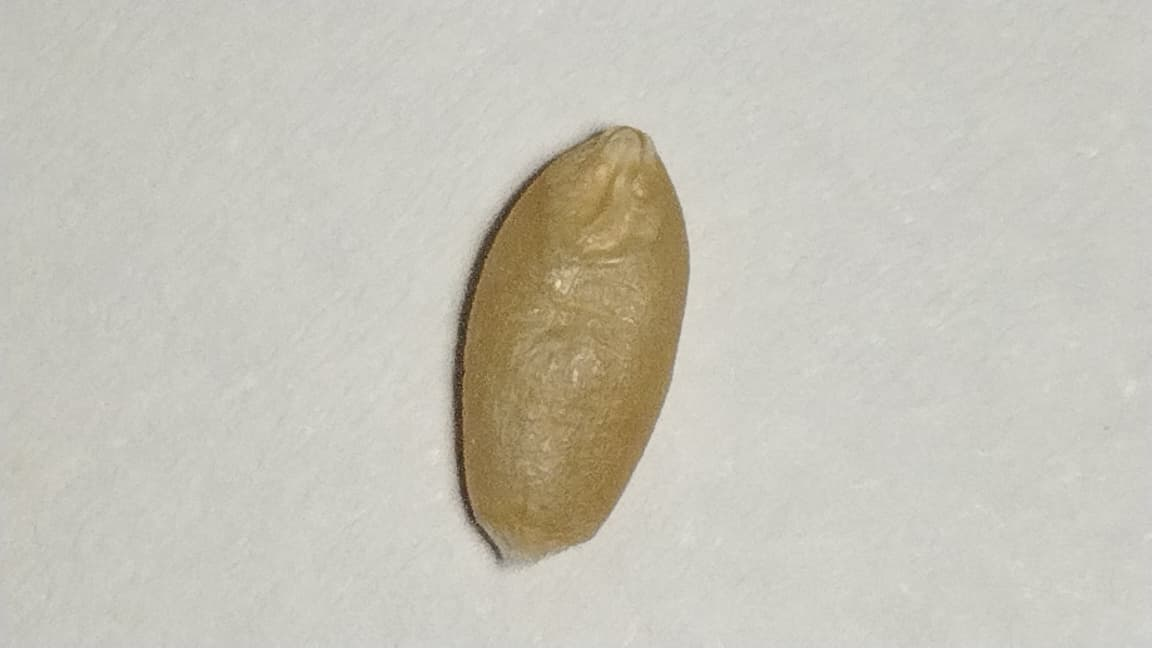healthy: (461, 127, 688, 554)
